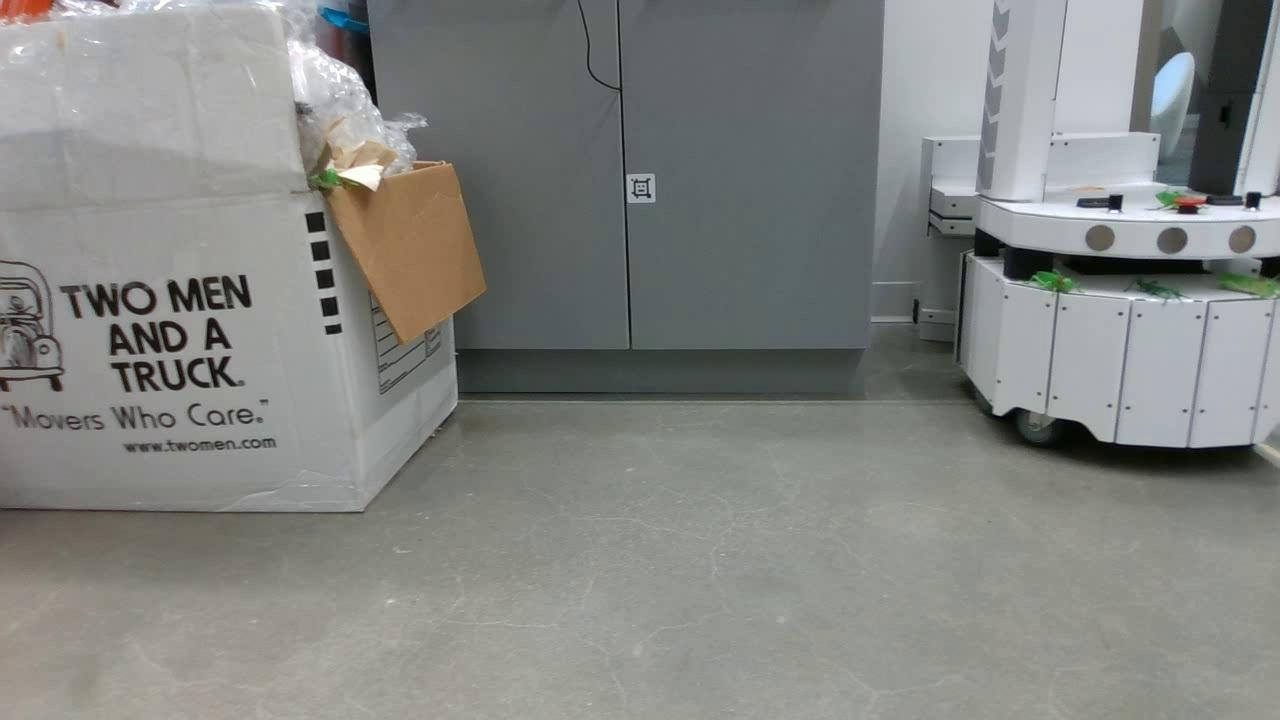grasshopper: (1213, 268, 1280, 304), (1028, 269, 1087, 295), (1150, 186, 1201, 216), (303, 163, 345, 194)
